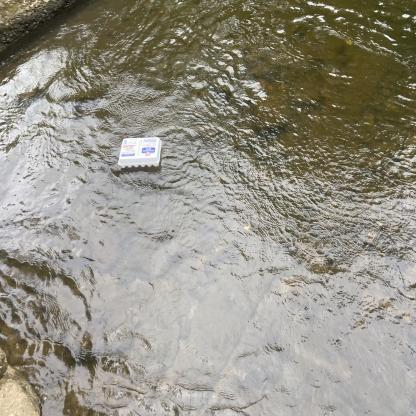trash: (114, 128, 165, 174)
